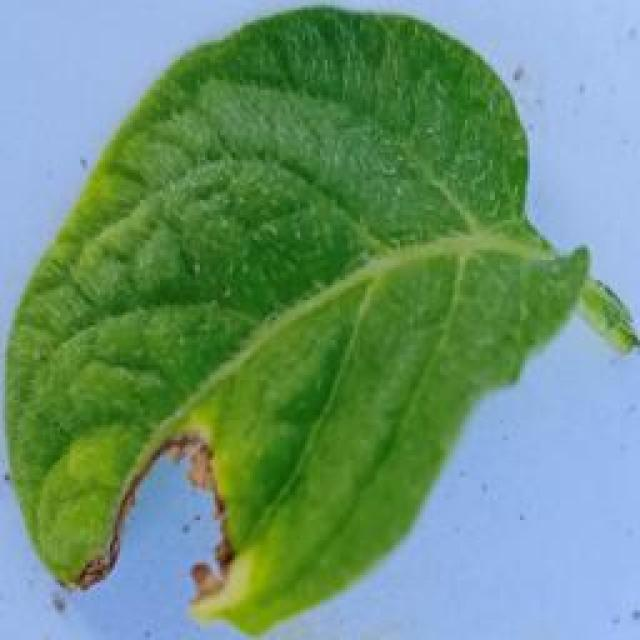Potato_Late_Blight: (3, 18, 640, 613)
